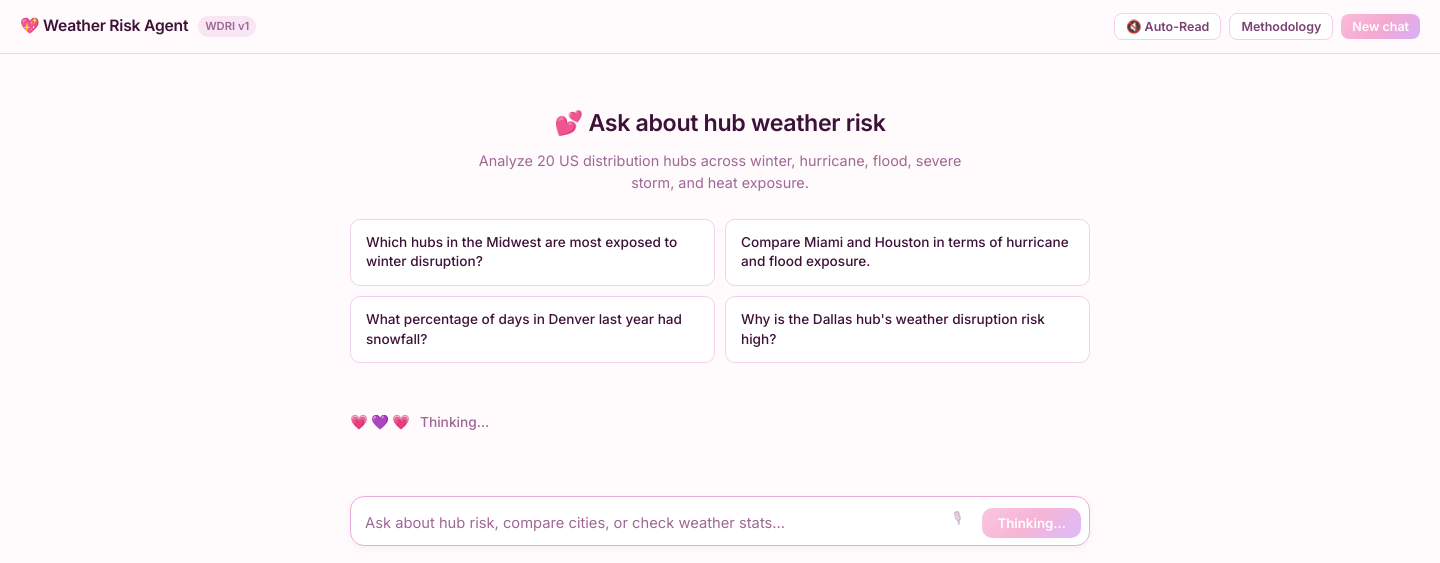
Test: Voice input/output UI integration › auto-reads new assistant responses when Auto-Read is toggled on
Click the button with aria-label "auto-read off" at point(1168, 26), box [1114,13,1221,40]
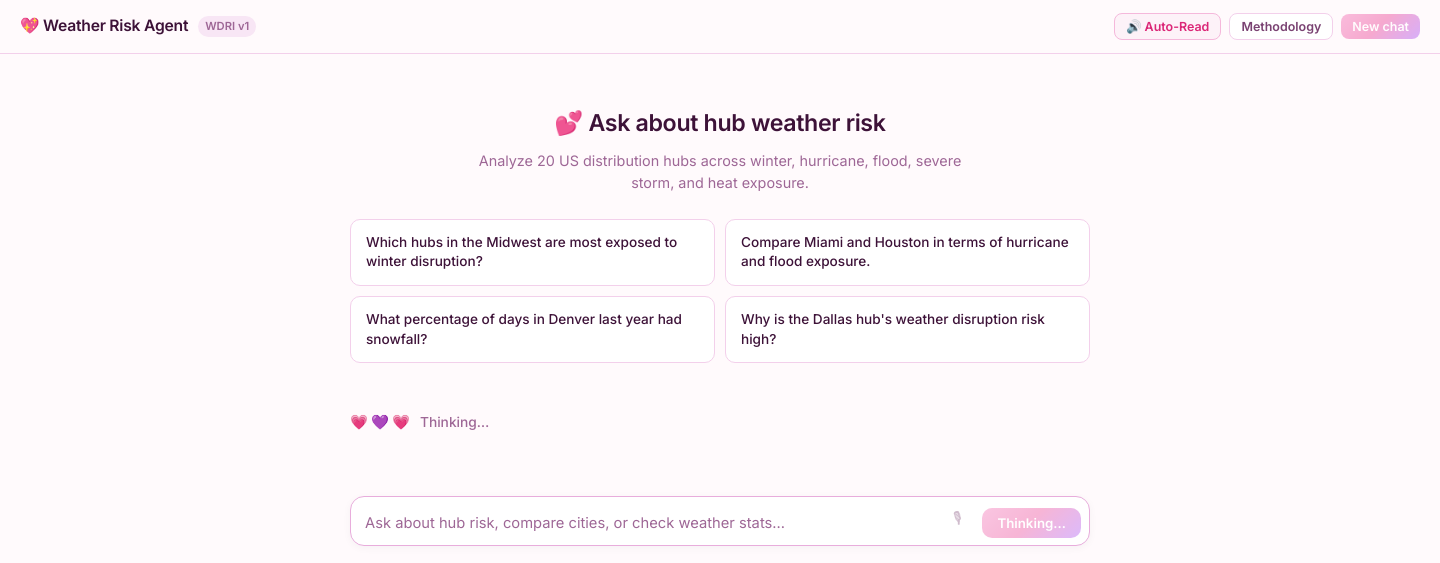
Check: the button with aria-label "auto-read on" is pressed, box [1114,13,1221,40]
